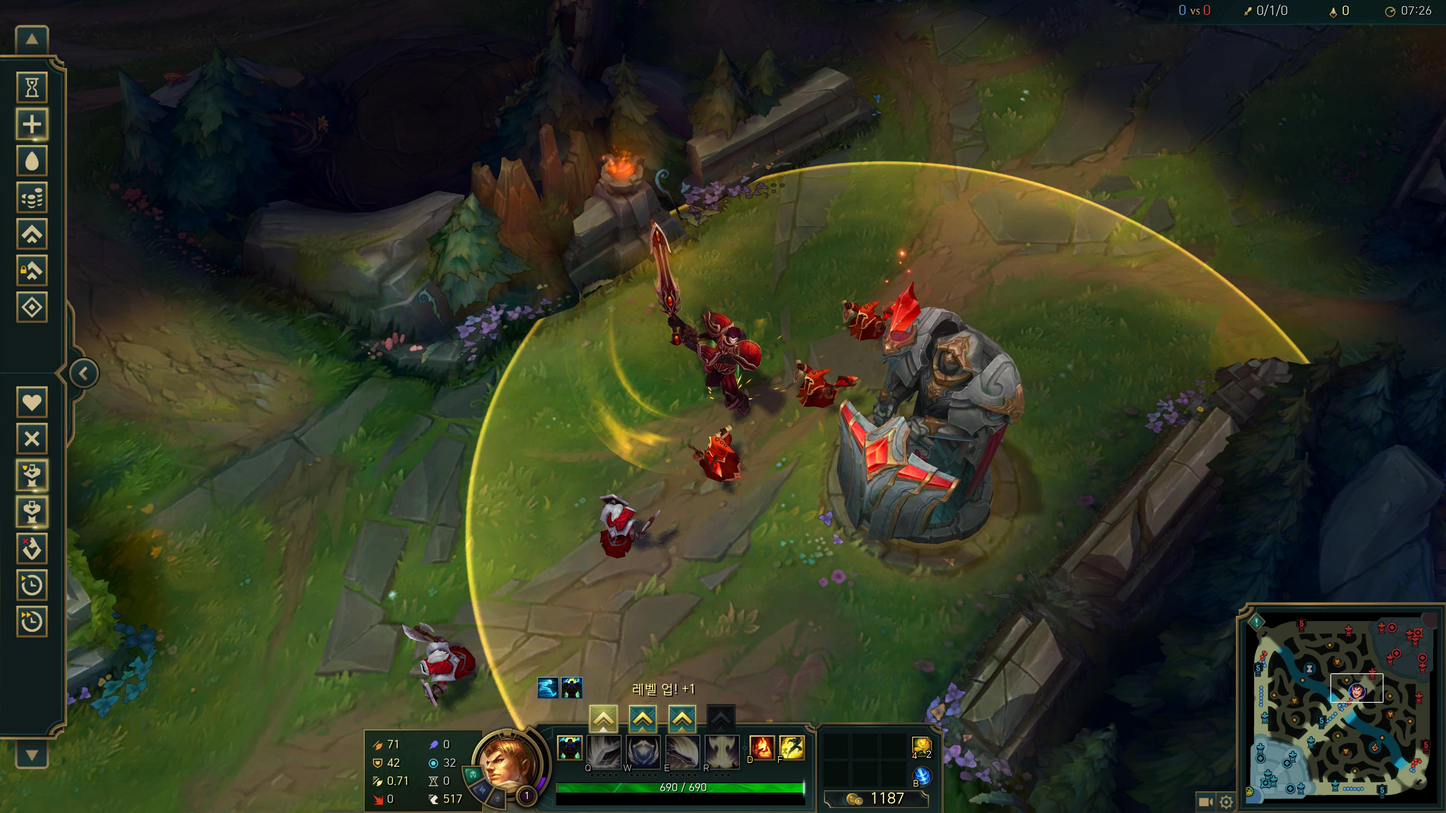enemy-melee-minion: (401, 621, 476, 708), (599, 494, 661, 560)
